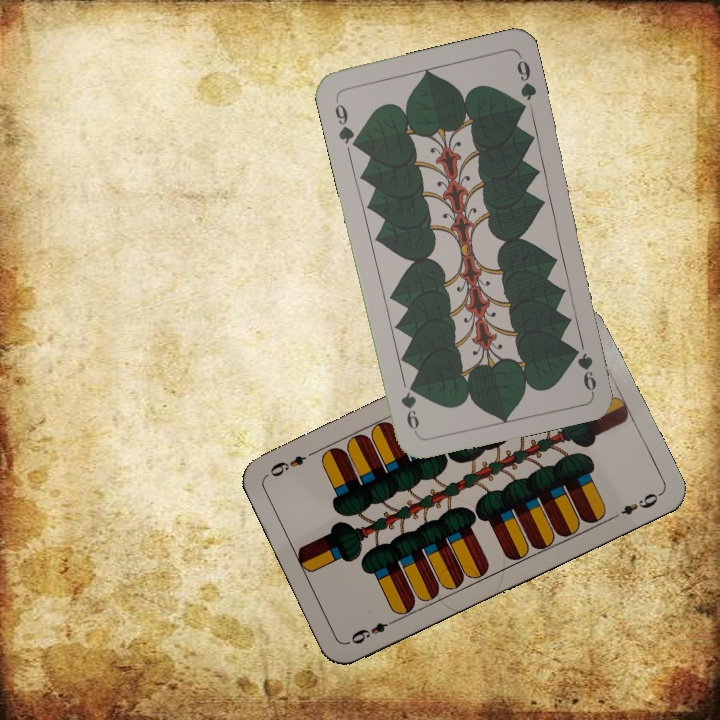E9: (347, 615, 400, 647)
G9: (330, 95, 362, 151), (575, 349, 599, 393)
